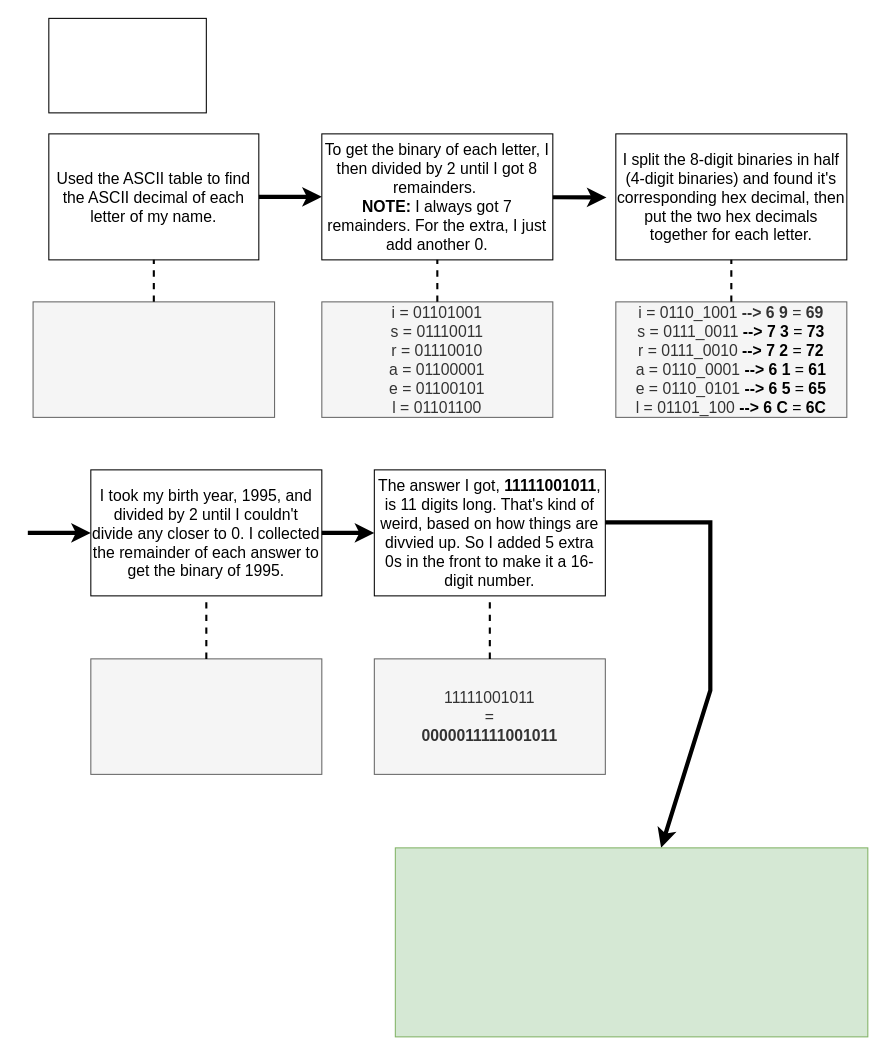
This 886x1055 diagram has some shape labels left out. The centre of each missing label's shape, as x and y in pixels:
1995/2 = 997.5 r 1 997/2 = 498.5 r 1 ... 11111001011: the point at 206,716
Answer: israel = 69737261656C 1995 = 0000011111001011: the point at 631,942
i = 105 s = 115 r = 114 a = 97 e = 101 l = 108: the point at 153,359
Used: Name: Israel B Year: 1995: the point at 127,65
